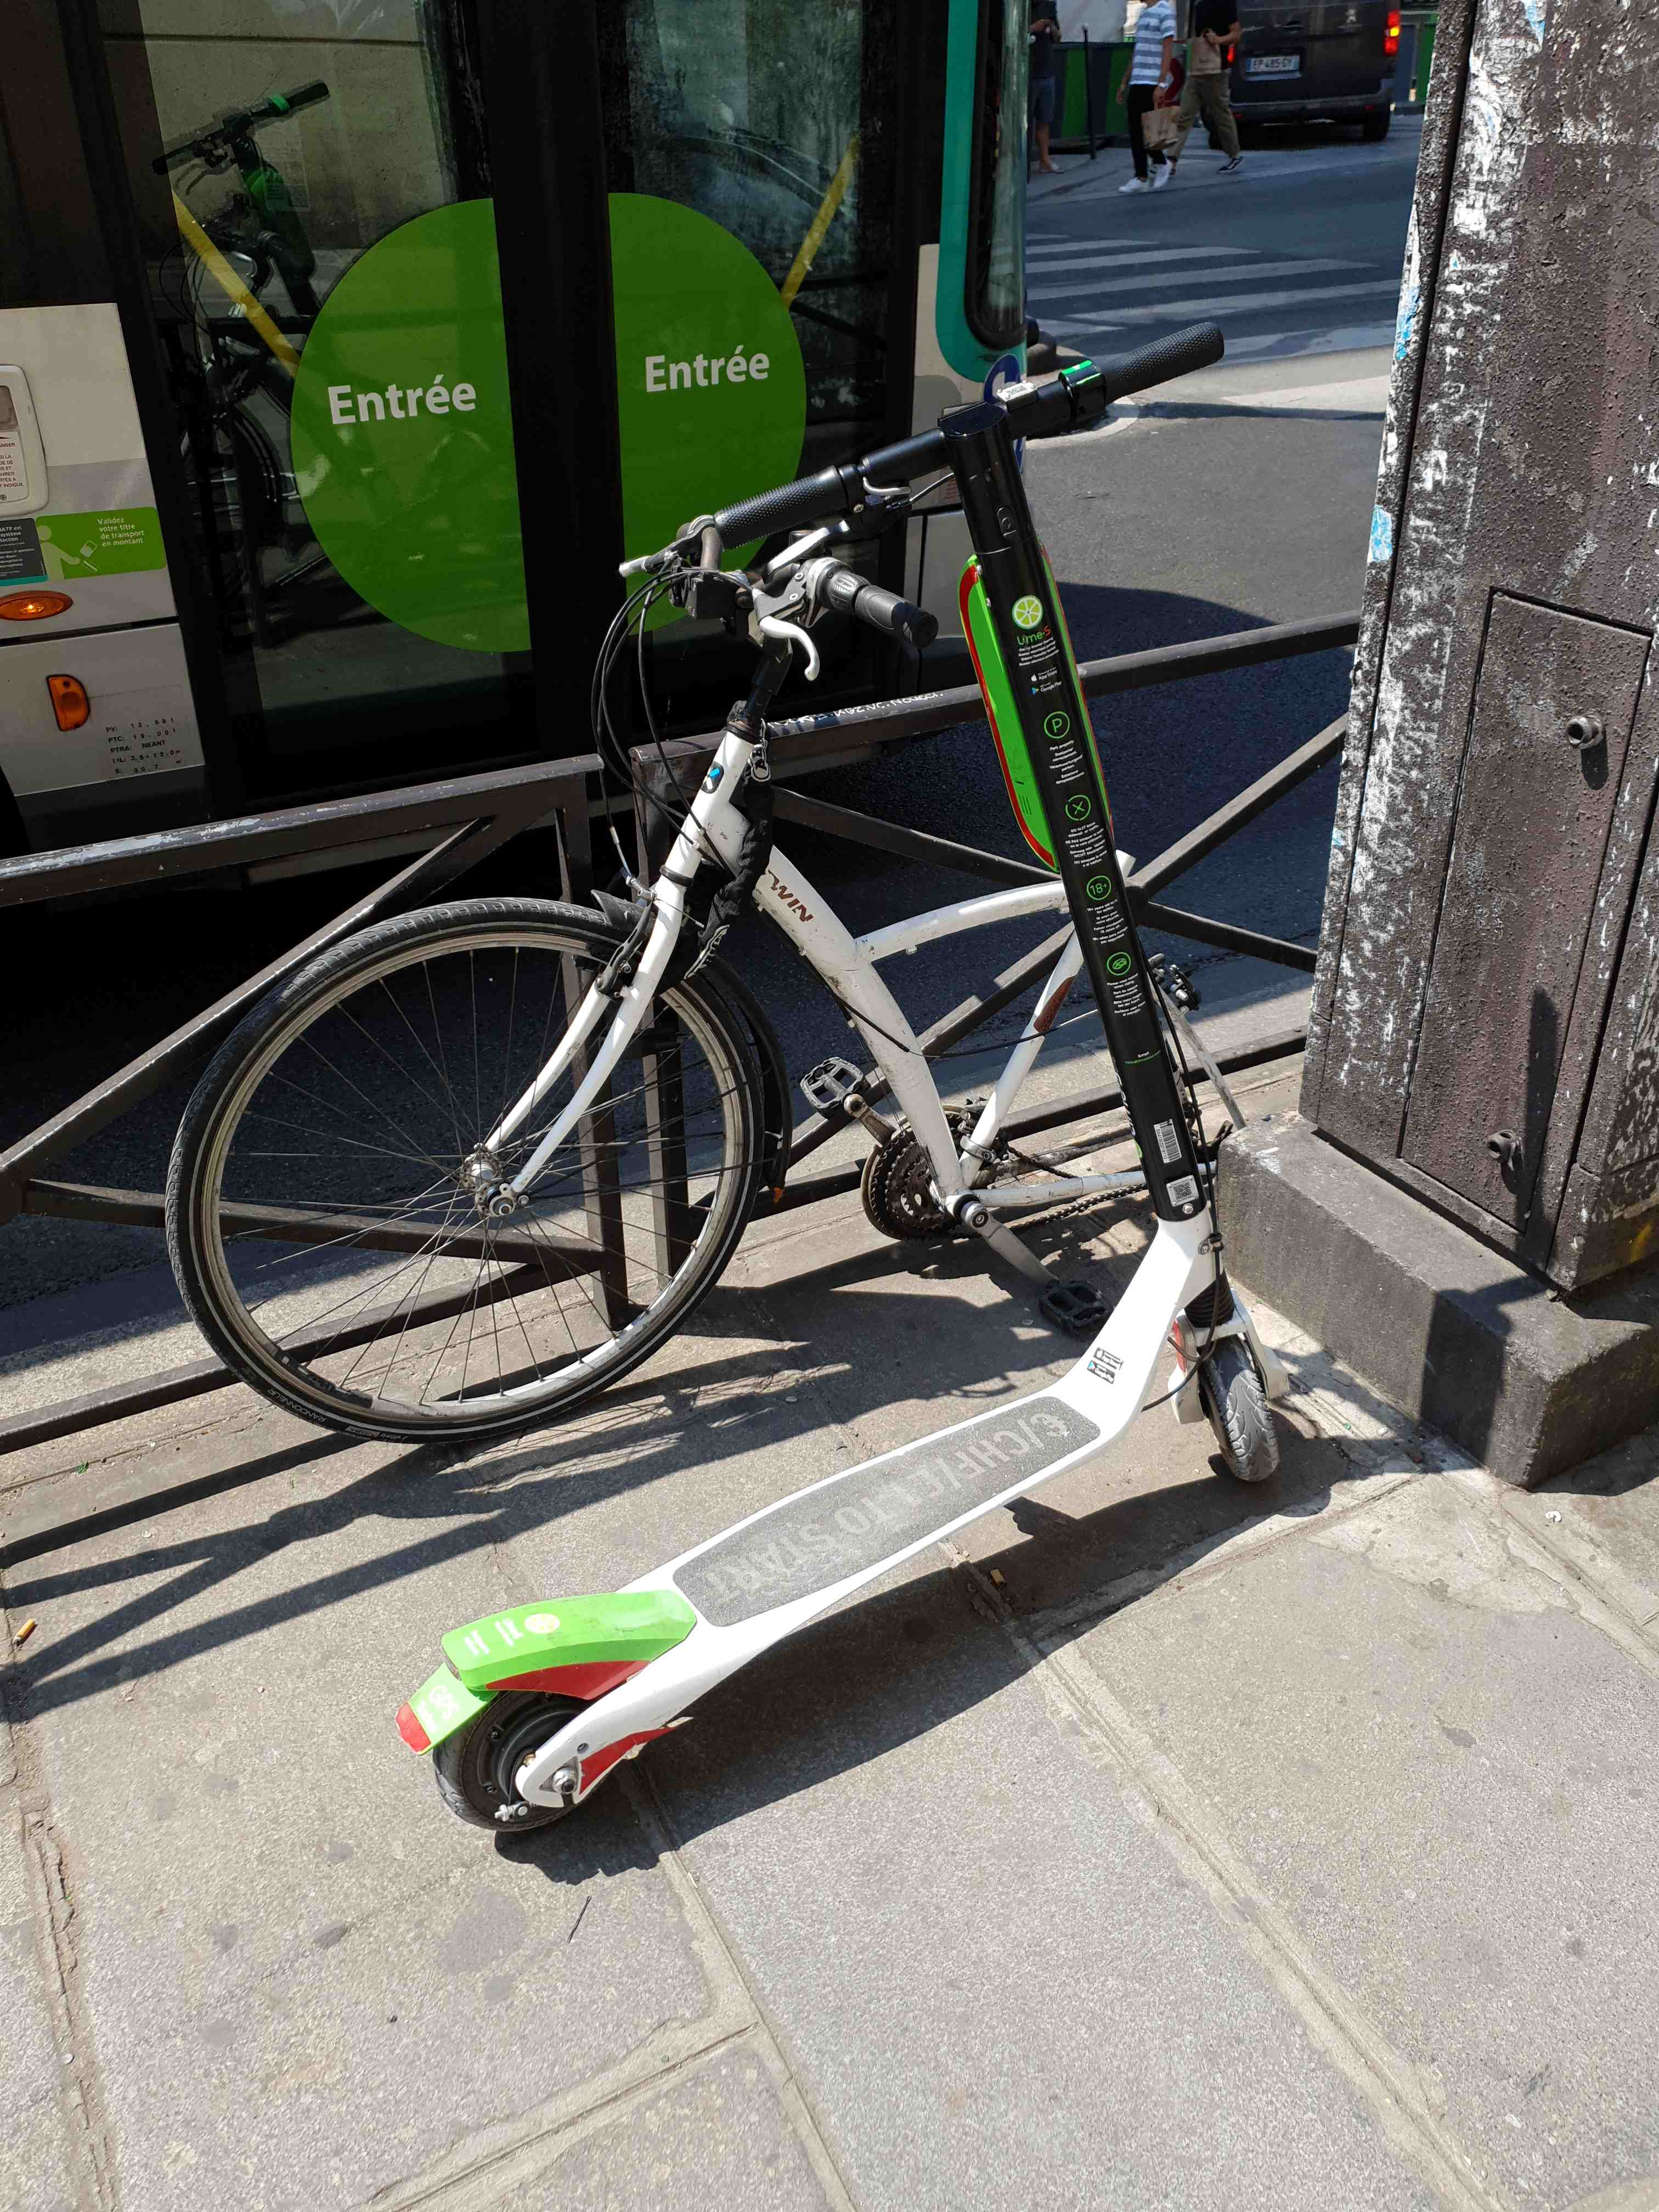scooter: (392, 336, 1368, 1925)
